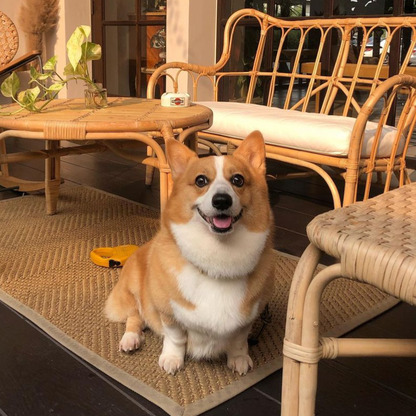Corgi: (104, 111, 287, 383)
